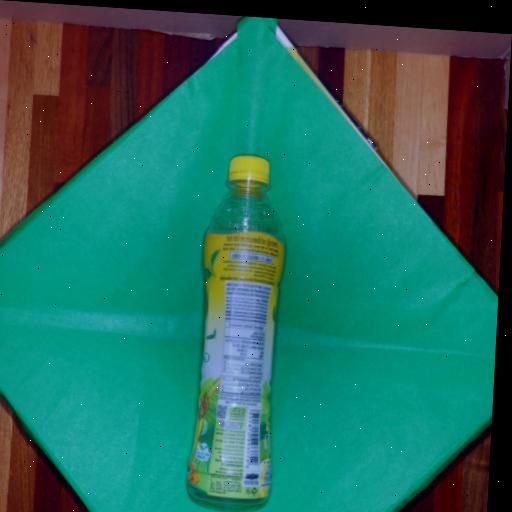bottle: (173, 144, 298, 512)
